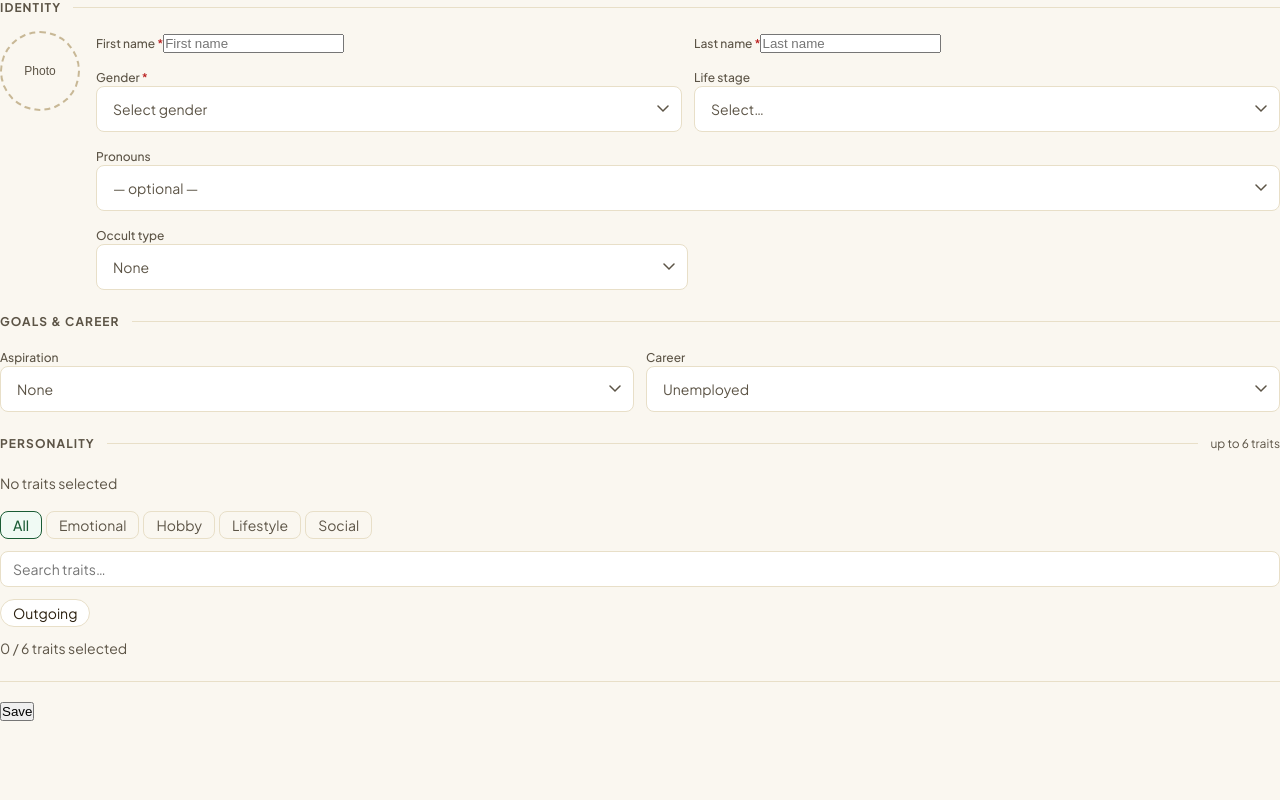
Test case: SimForm › hides custom pronoun inputs by default and shows them when Custom is selected
Check: the field labelled "subject" is not shown
Check: the field labelled "object" is not shown
Click the button named "pronouns".
click(156, 188)  # box [96,165,1279,211]
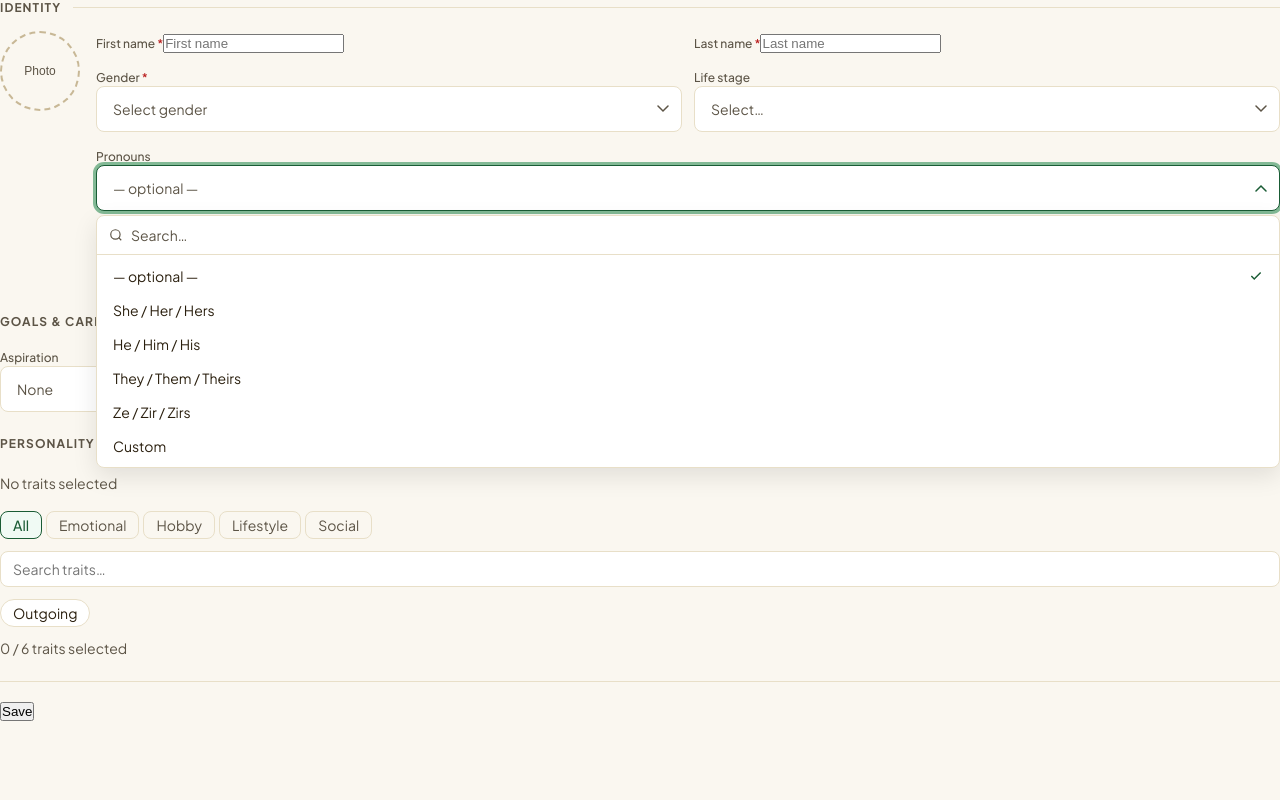
Click the option "Custom".
click(140, 446)  # box [113,437,166,455]
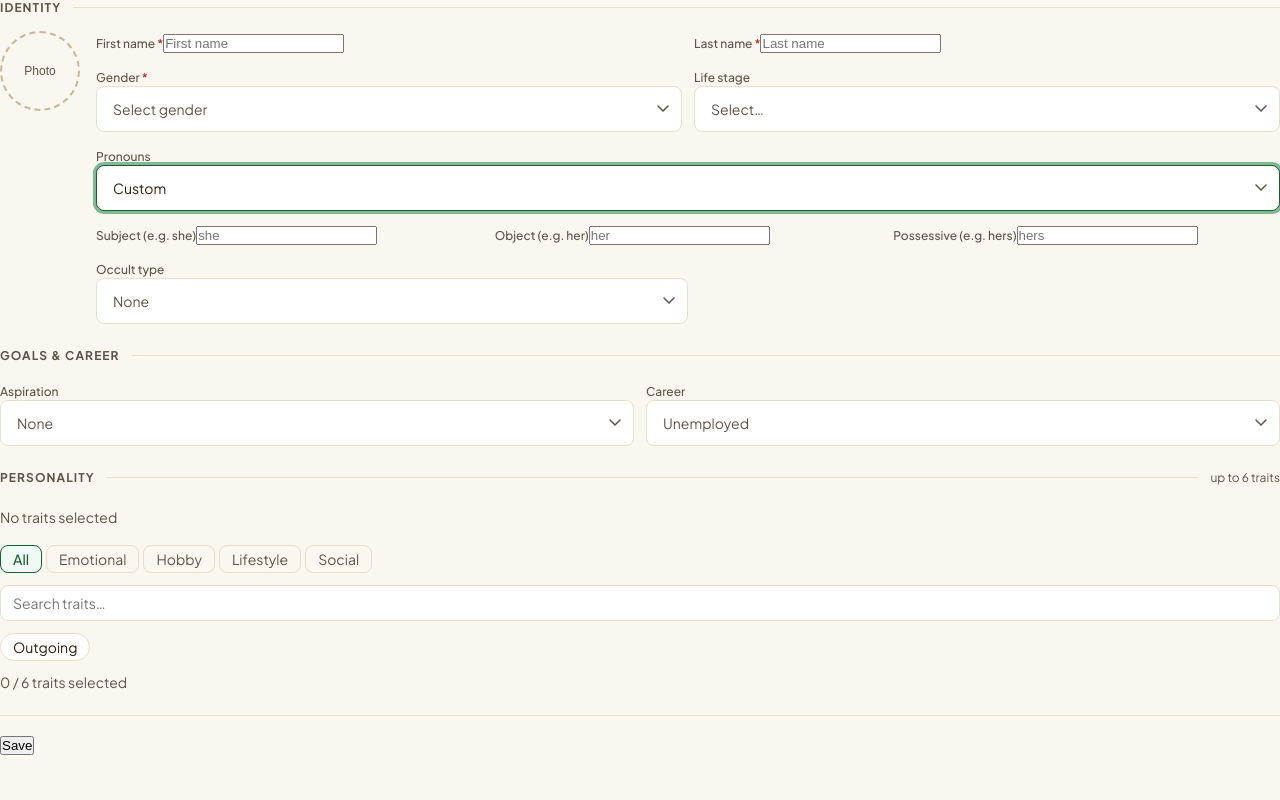
Check: the field labelled "Subject (e.g. she)" is shown, box [196,226,377,245]
Check: the field labelled "Object (e.g. her)" is shown, box [589,226,770,245]
Check: the field labelled "Possessive (e.g. hers)" is shown, box [1016,226,1198,245]
